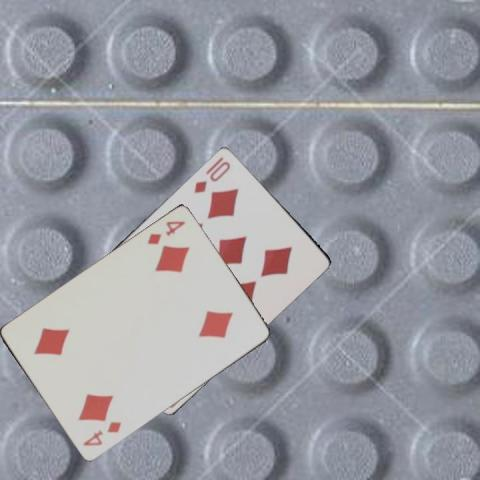10d: (191, 157, 232, 194)
4d: (143, 218, 187, 247), (80, 419, 123, 448)
